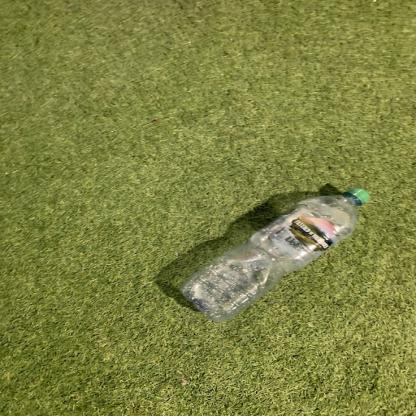trash: (178, 187, 374, 323)
